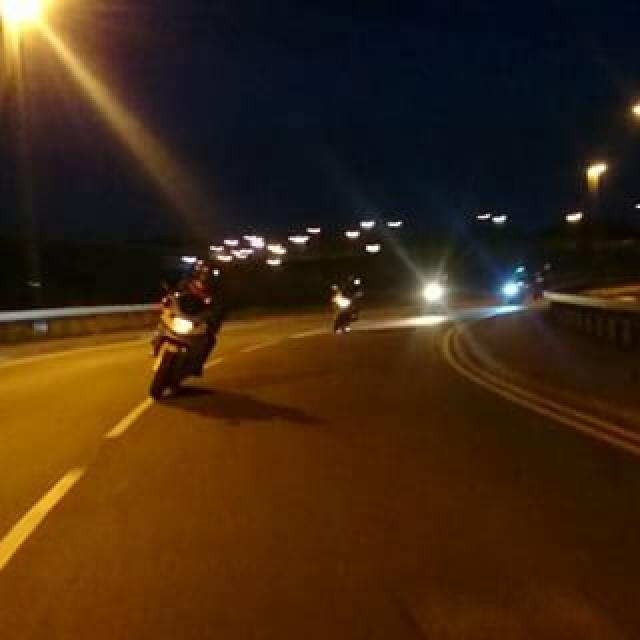Motorbike: (143, 275, 245, 400), (475, 253, 560, 305), (318, 266, 367, 344)
